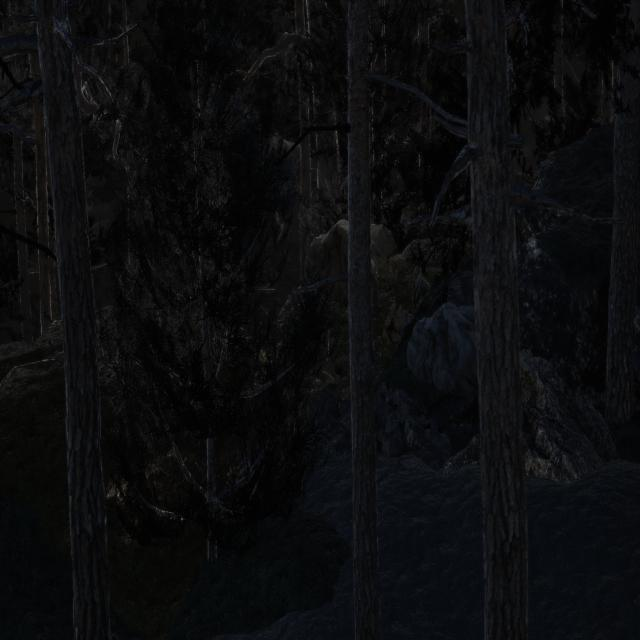Human: (318, 306, 334, 377)
